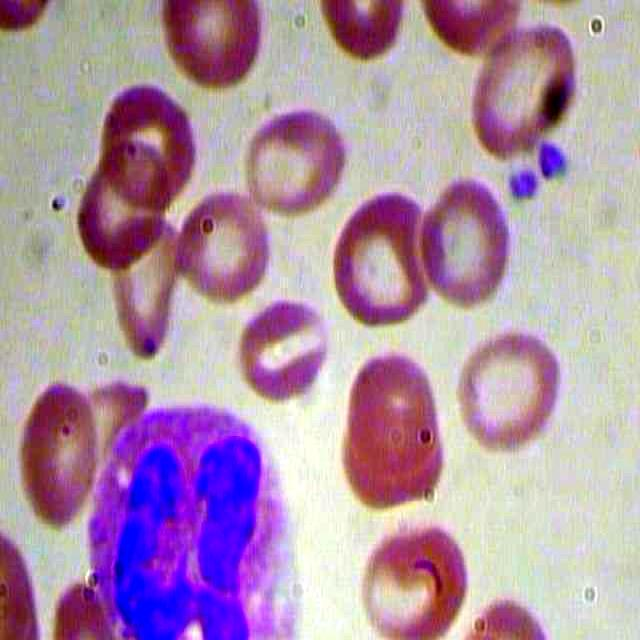Platelets: (536, 136, 574, 187), (507, 160, 543, 207)
RBC: (467, 17, 590, 168), (329, 182, 447, 338), (448, 325, 566, 467), (412, 173, 520, 315), (98, 63, 196, 218), (355, 513, 474, 640), (239, 93, 353, 223), (15, 374, 103, 542), (102, 208, 192, 369), (340, 345, 442, 479), (174, 184, 274, 311), (238, 287, 333, 413), (161, 1, 271, 103)
WBC: (79, 394, 307, 640)
